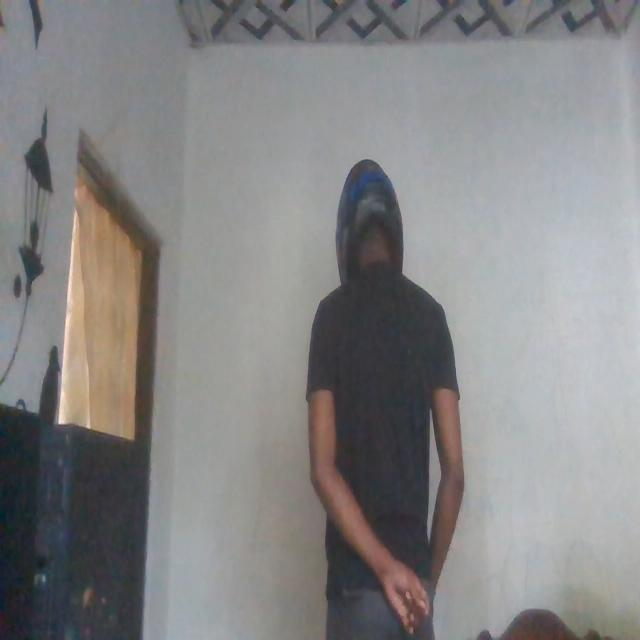Helmet_Wearer: (324, 157, 416, 300)
Person: (301, 146, 460, 640)
